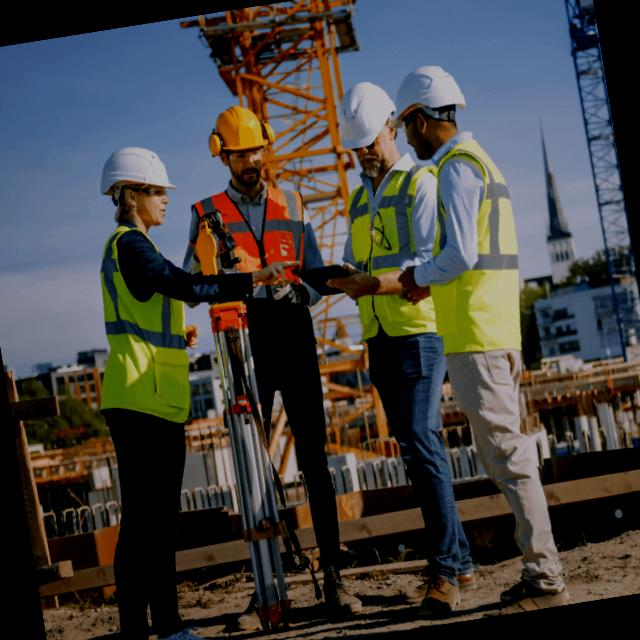helmet: (81, 124, 188, 212), (376, 49, 476, 128), (316, 76, 402, 160), (203, 91, 273, 160)
vest: (74, 208, 211, 428), (423, 140, 548, 371), (332, 150, 453, 357), (185, 171, 334, 323)
